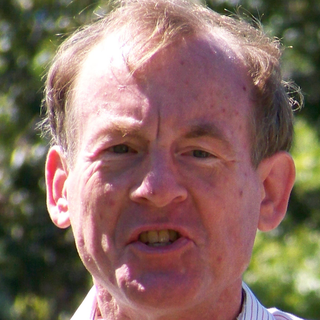eye: (176, 143, 223, 166), (99, 138, 143, 160)
